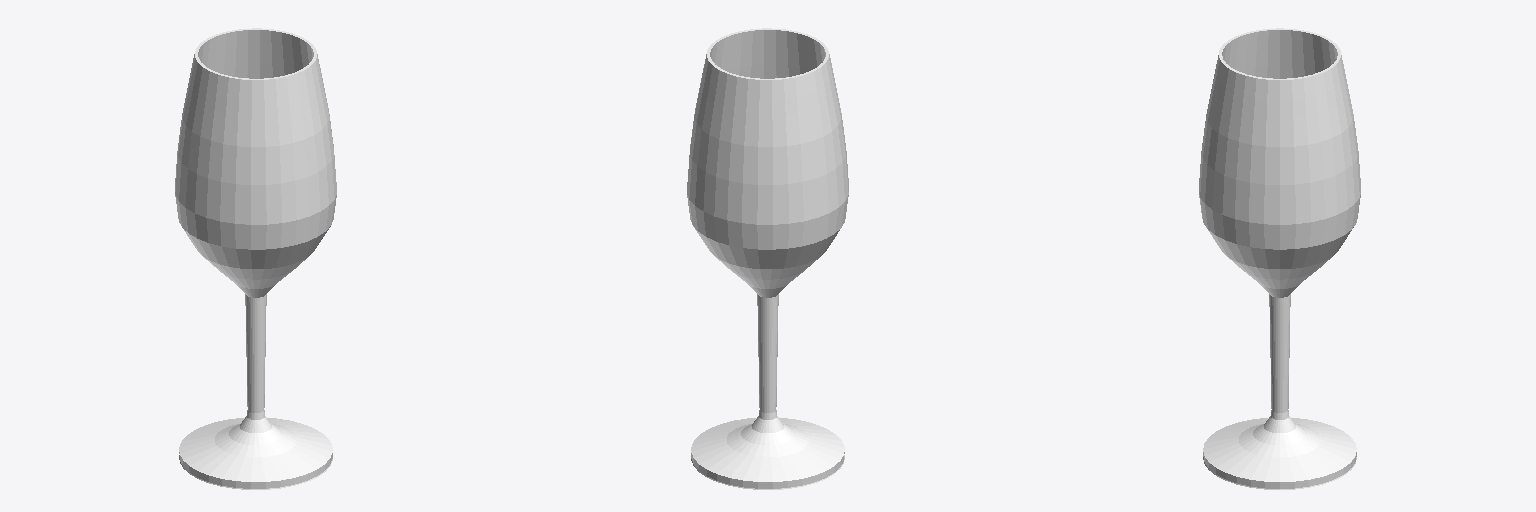
Rendered from wine.obj.
3 renders of one model, left to right at view 1: azimuth 30°, elevation 25°; view 2: azimuth 150°, elevation 25°; view 3: azimuth 270°, elevation 25°, orthographic.
Parts seen in each view (by area): view 1: Glass; view 2: Glass; view 3: Glass.
Part boxes in pixels (bbox=[...]): Glass: bbox=[175, 28, 336, 489]; Glass: bbox=[687, 28, 848, 489]; Glass: bbox=[1199, 28, 1360, 489].
Bounding box in the file's own units: 1.09 × 2.99 × 1.09.